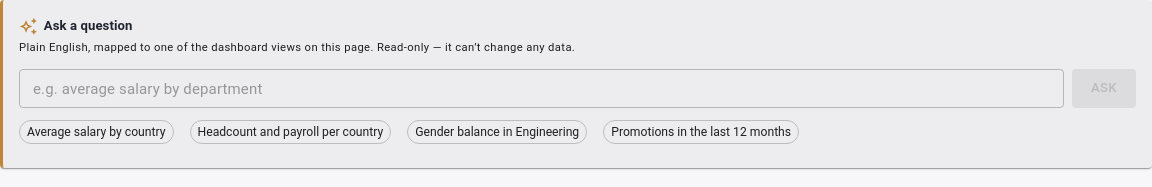
NLQueryBox › disables Ask until a question is typed
The width and height of the screenshot is (1152, 187).
Expected: the button "Ask" is disabled, left=1072, top=69, right=1136, bottom=108
Step 1. Type "hello" into the field named "Analytics question" → (542, 89), box left=19, top=69, right=1064, bottom=108
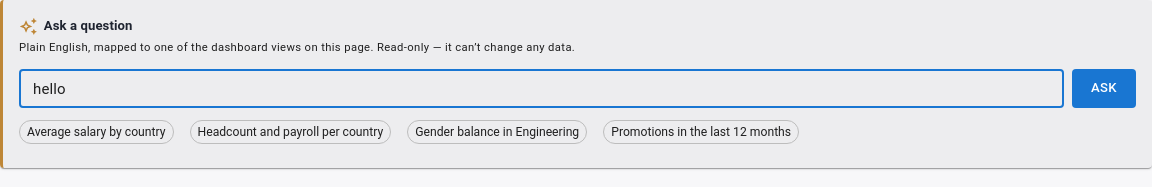
Expected: the button "Ask" is enabled, left=1072, top=69, right=1136, bottom=108
